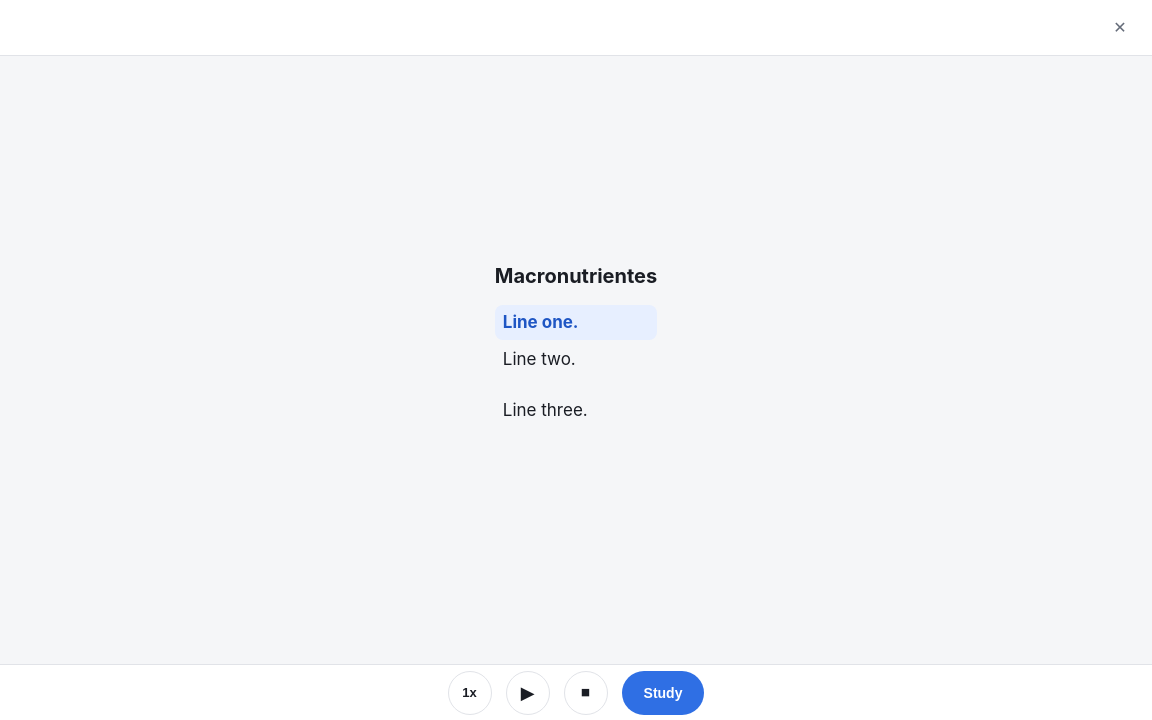
LearningTopicPage › clicking the speed button cycles 1x -> 1.25x -> 0.5x -> 0.75x -> 1x
Click the button with class "reader-speed-btn" at (470, 692), box x1=448 y1=670 x2=492 y2=714
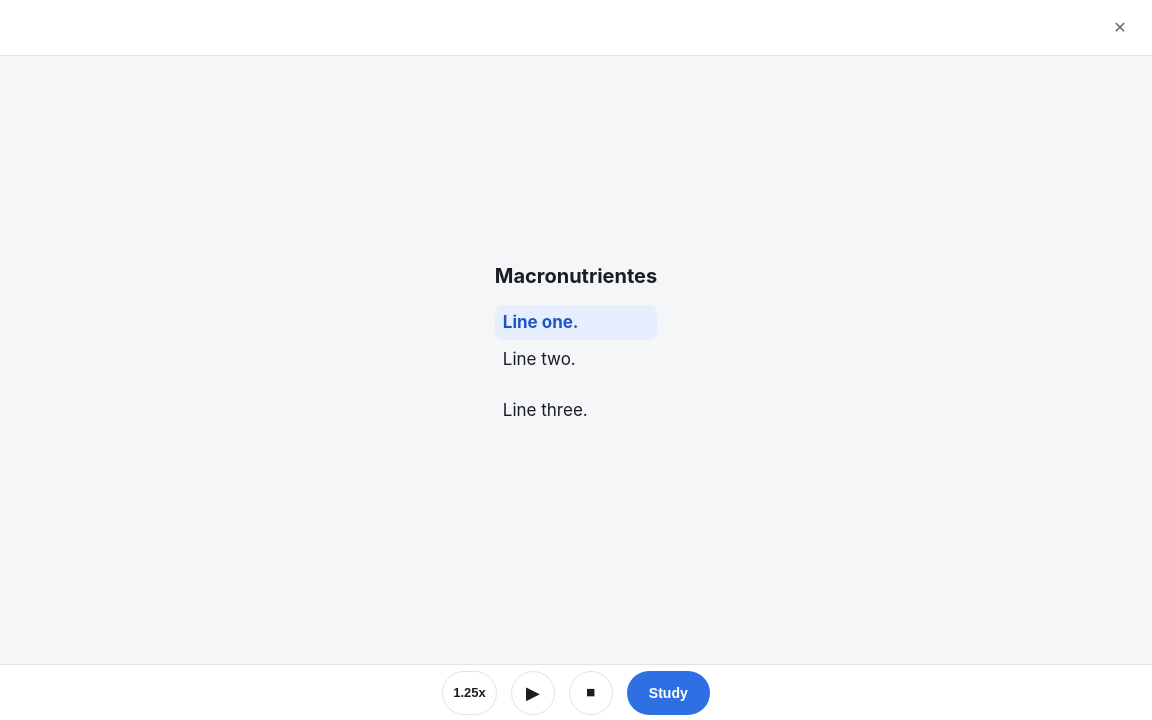
Result: the button with class "reader-speed-btn" reads "1.25x"
Click the button with class "reader-speed-btn" at (470, 692), box x1=442 y1=670 x2=497 y2=714
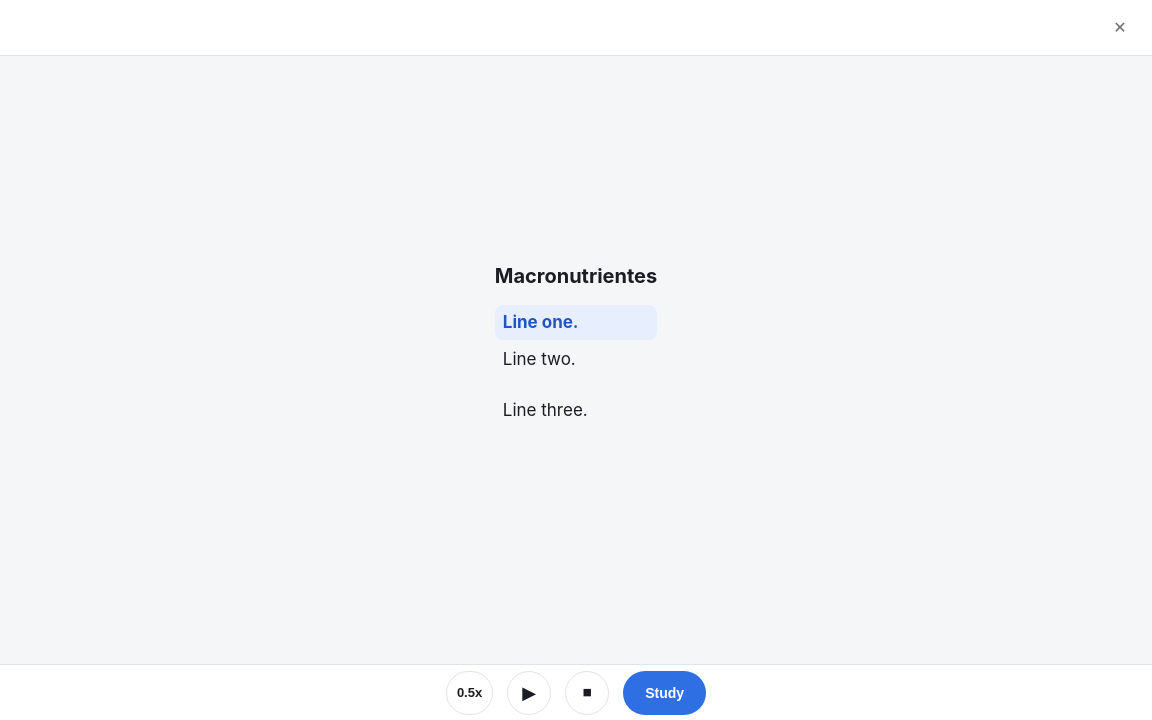
Result: the button with class "reader-speed-btn" reads "0.5x"
Click the button with class "reader-speed-btn" at (470, 692), box x1=446 y1=670 x2=493 y2=714
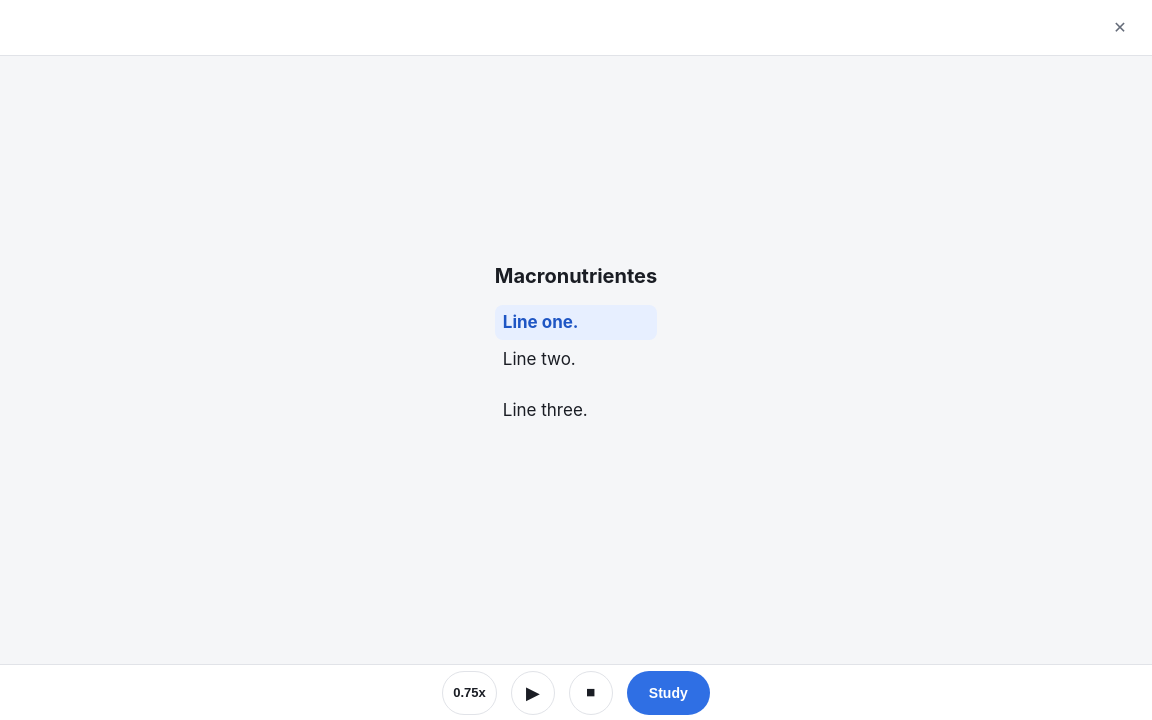
Result: the button with class "reader-speed-btn" reads "0.75x"
Click the button with class "reader-speed-btn" at (470, 692), box x1=442 y1=670 x2=497 y2=714
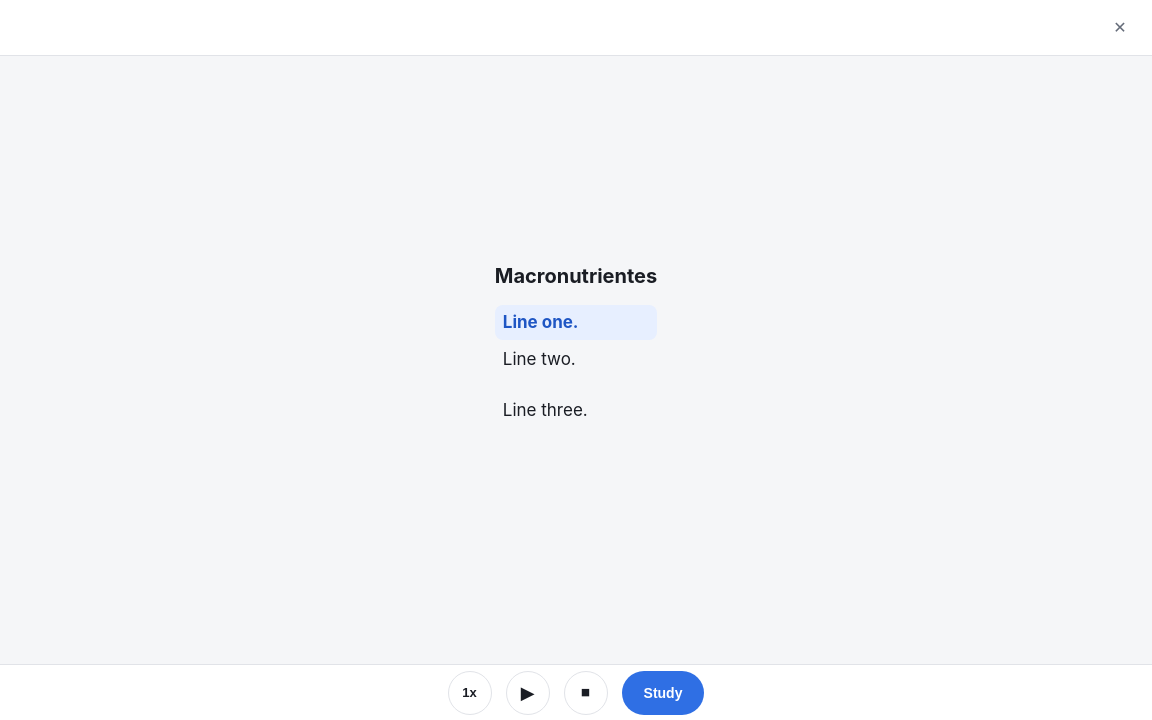
Result: the button with class "reader-speed-btn" reads "1x" at x1=448 y1=670 x2=492 y2=714
